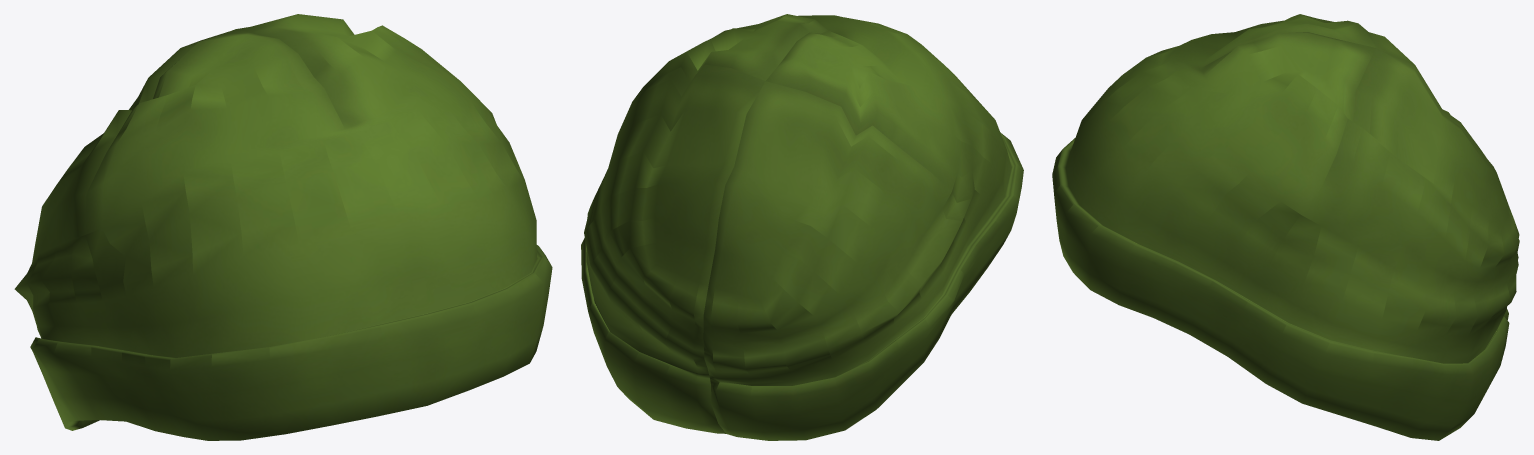
The model's file is Beanie.fbx.
The picture shows the model from 3 angles, left to right: view 1: azimuth 30°, elevation 25°; view 2: azimuth 150°, elevation 25°; view 3: azimuth 270°, elevation 25°; orthographic projection. The views are drawn at different scales.
Visible parts, largest first — view 1: Beanie; view 2: Beanie; view 3: Beanie.
Part boxes in pixels (x1,y1,x2,y2): Beanie: [14, 14, 552, 440]; Beanie: [581, 14, 1023, 440]; Beanie: [1052, 14, 1519, 440].
Size of the model in its own units: 51.44 by 47.62 by 55.35.
Materials: 1 (1 with a texture image).
